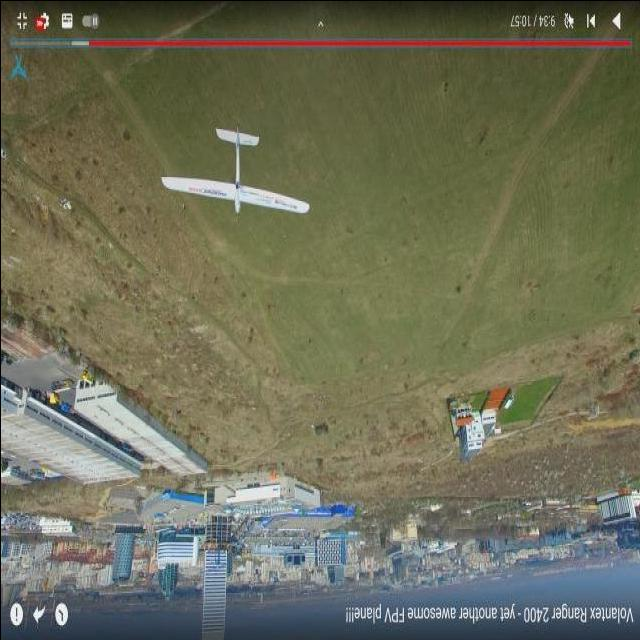UAV: (172, 124, 302, 244)
